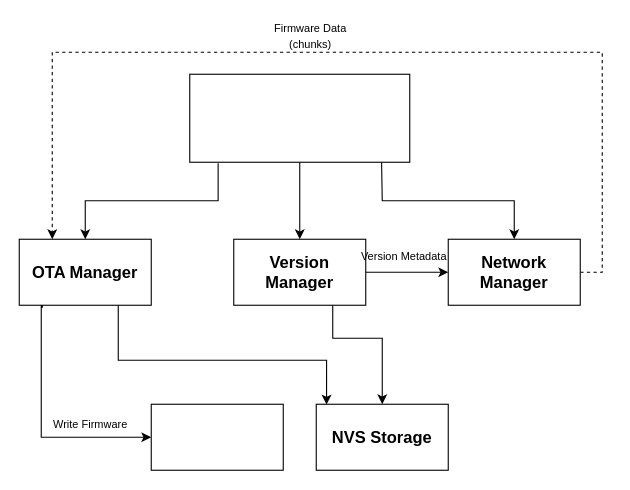
This 630x490 diagram has some shape labels left out. The shapes that lost their labels are listed below. From the top down, each one's centre as x and y in pixels, then its label:
pixel 299 117: OTA State Machine
pixel 216 436: Flash Manager
